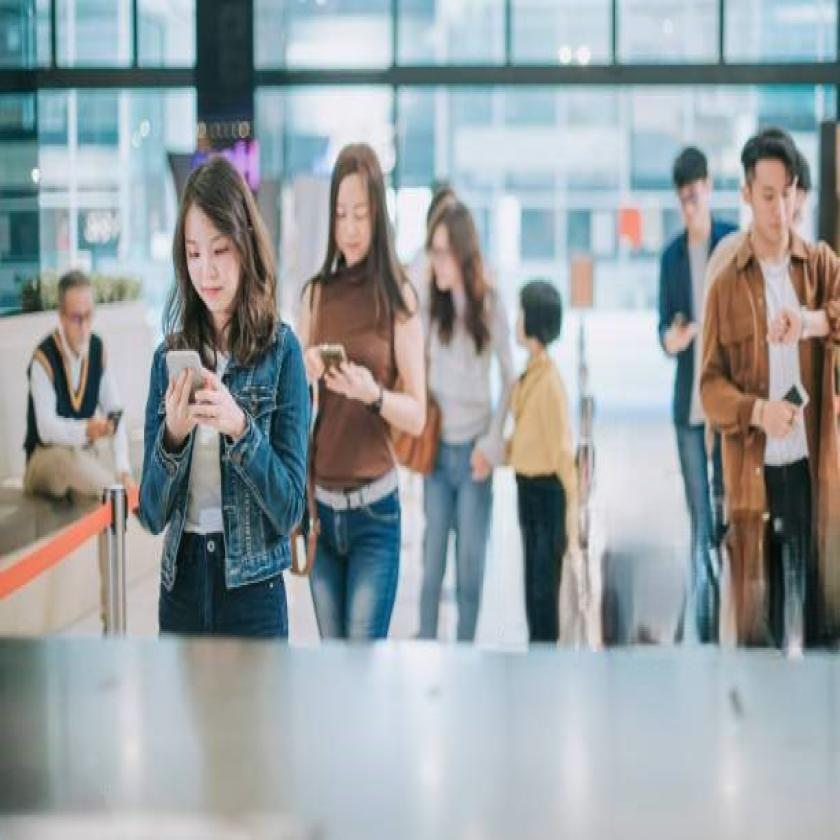Sin_casco: (174, 162, 259, 338), (735, 126, 801, 260), (324, 138, 392, 268), (672, 139, 714, 227)
